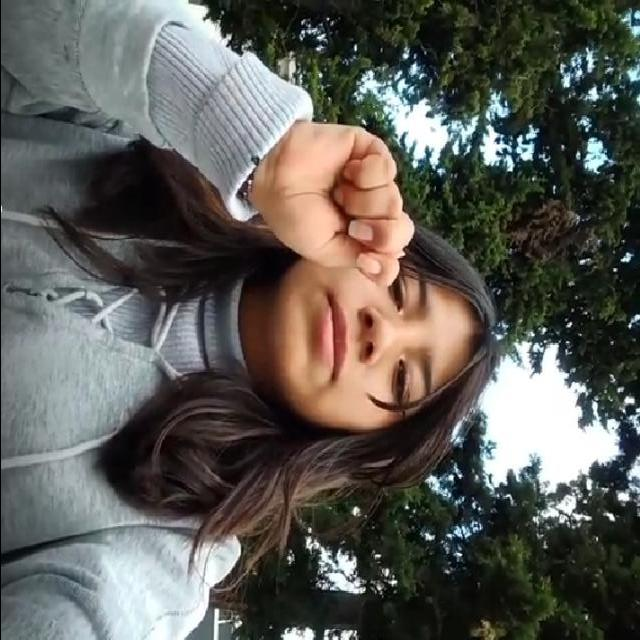T: (262, 118, 416, 297)
